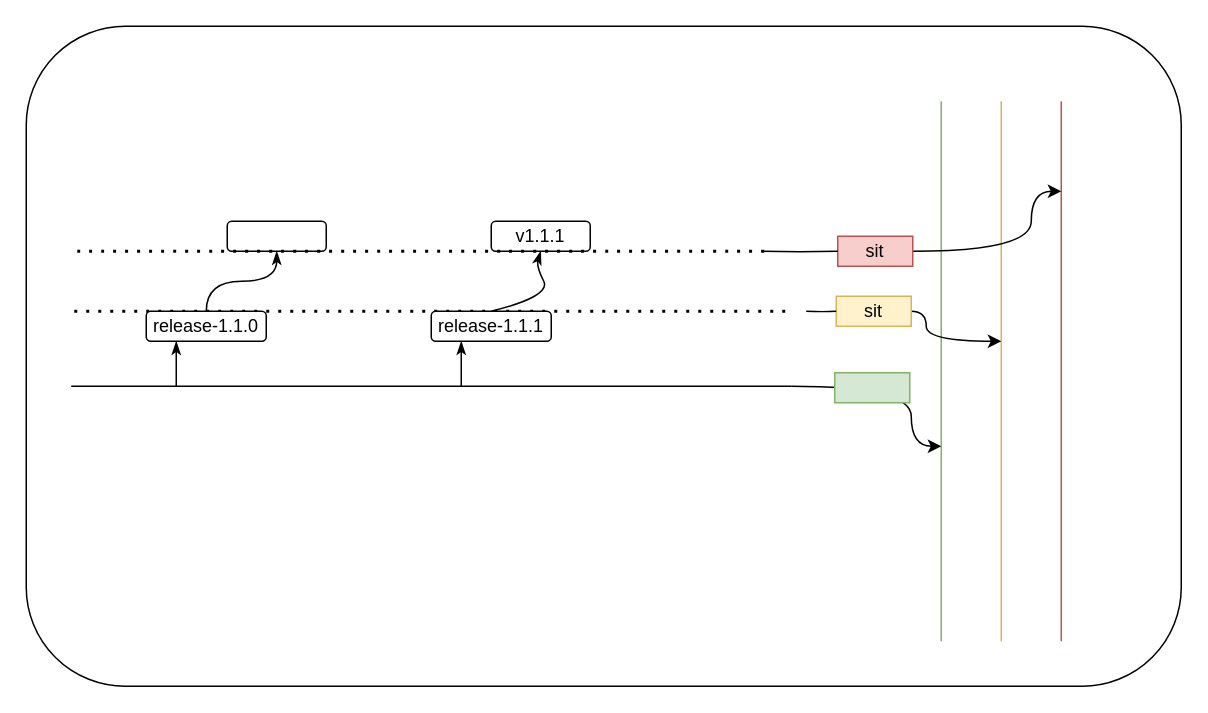
This 1208x713 diagram has some shape labels left out. Each missing label, with the centre of its shape:
dev: the point at 871,387
v1.1.0: the point at 276,235
